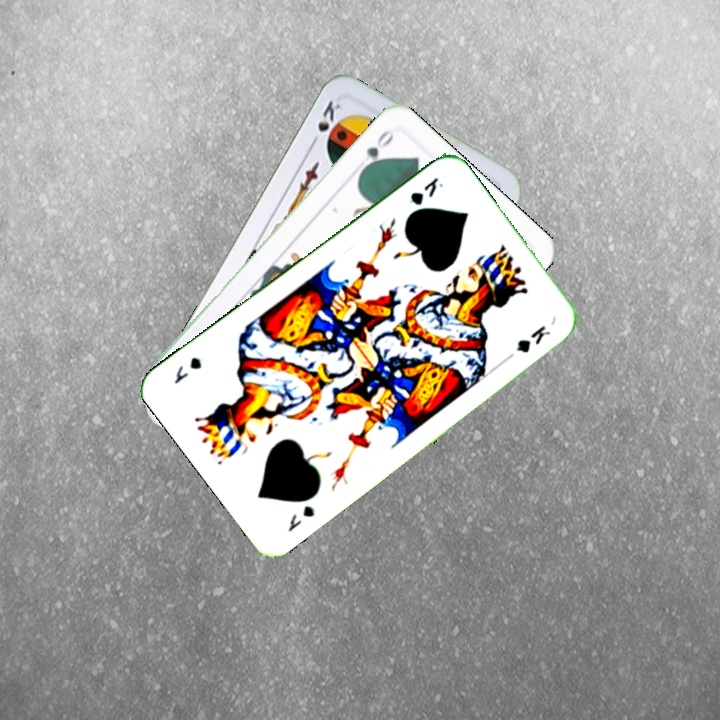GK: (404, 173, 446, 208), (284, 501, 317, 535)
GO: (356, 125, 398, 176)
SK: (306, 96, 344, 150)
